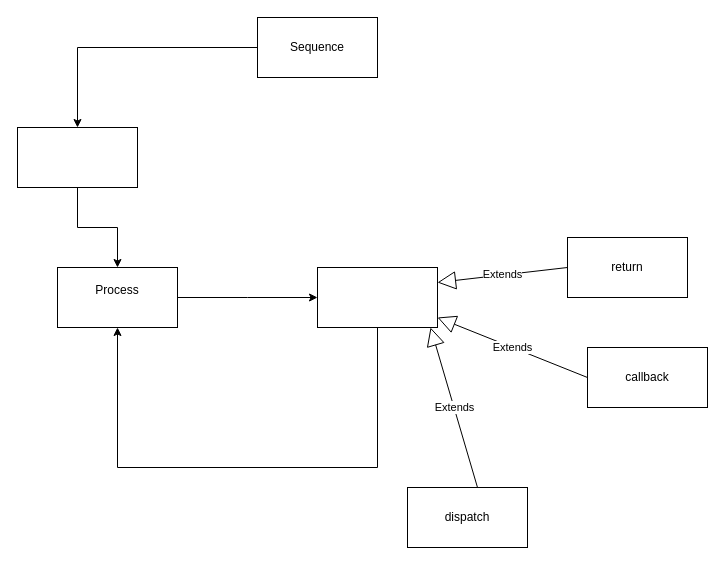
This 725x565 diagram has some shape labels left out. The shapes that lost their labels are listed below. From the top down, each one's centre as x and y in pixels, then its label:
At (77,157): "Class instance".
At (377,297): "Message".
